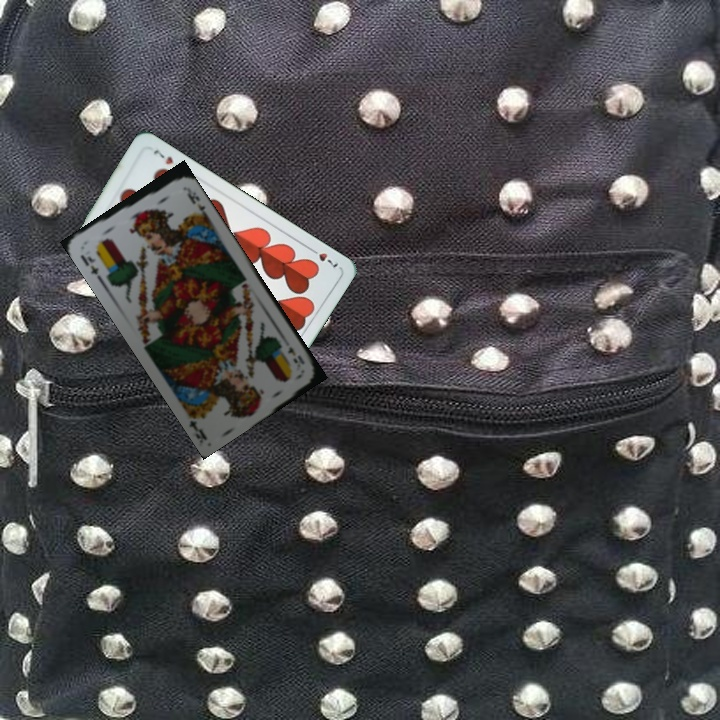EK: (76, 250, 104, 283), (284, 342, 307, 367)
H7: (305, 243, 341, 270)
